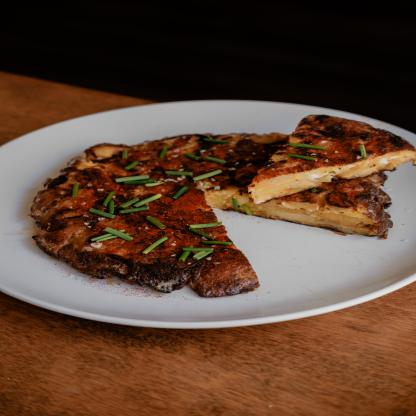Carne: (64, 172, 228, 288)
